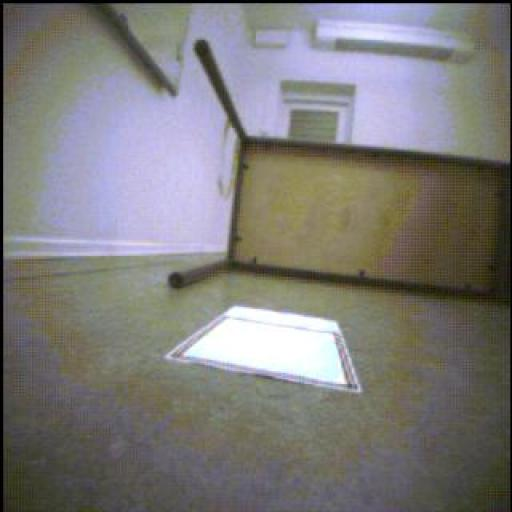Pad: (188, 310, 365, 395)
